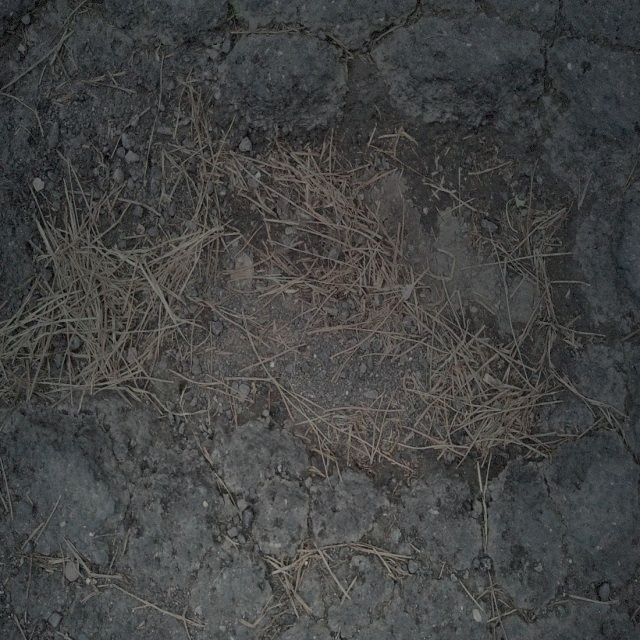pothole: (172, 35, 584, 528)
